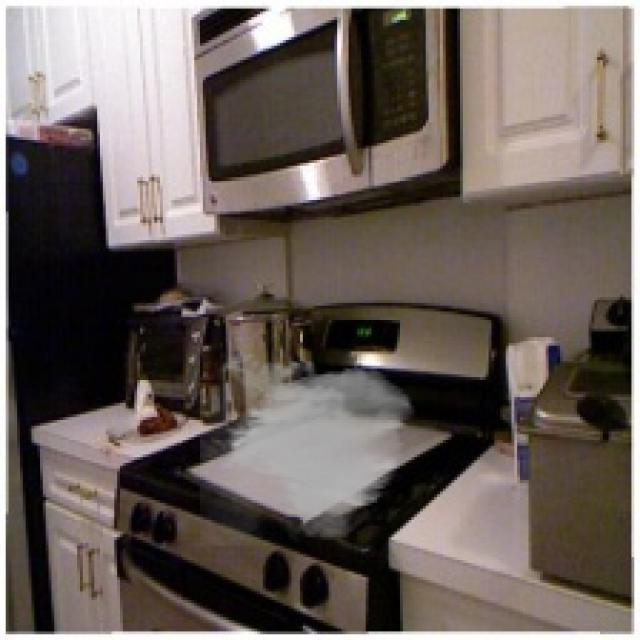Smoke: (200, 346, 417, 546)
